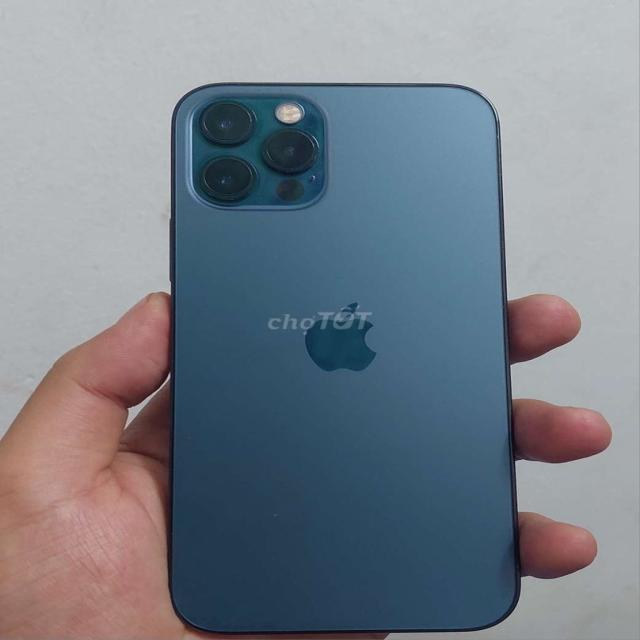gen_12_13: (165, 79, 549, 635)
